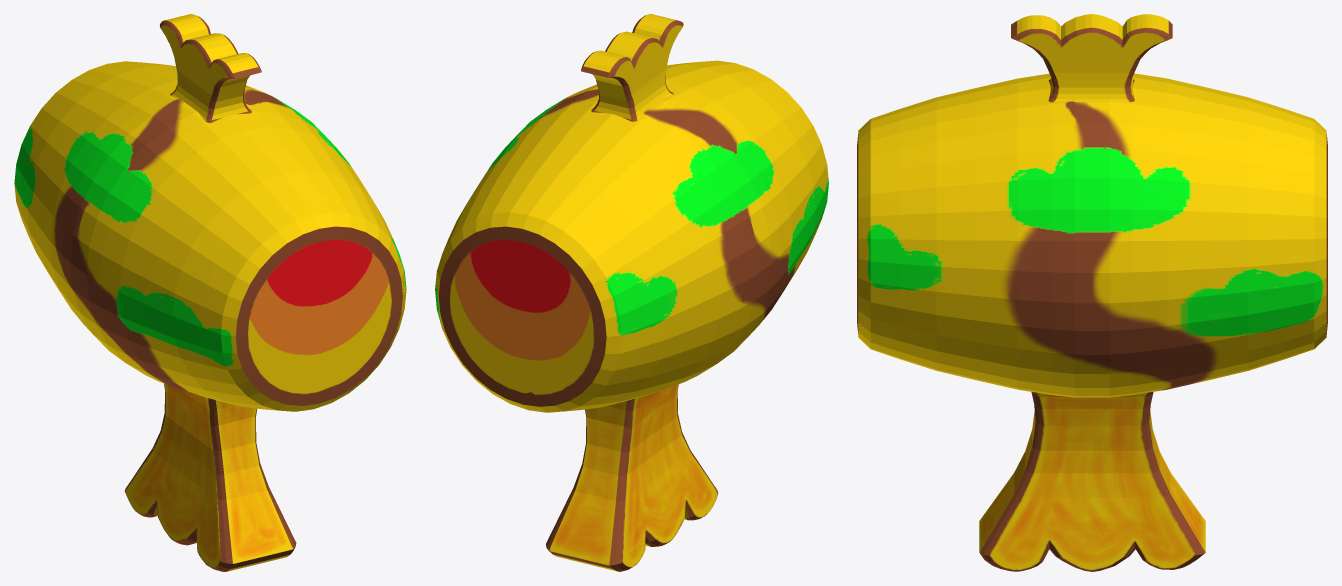
The model's file is MiracleMallet.fbx.
The picture shows the model from 3 angles, left to right: view 1: azimuth 30°, elevation 25°; view 2: azimuth 150°, elevation 25°; view 3: azimuth 270°, elevation 25°; orthographic projection. The views are drawn at different scales.
Visible parts, largest first — view 1: Body, Handle, Head; view 2: Body, Handle, Head; view 3: Body, Handle, Head.
Part boxes in pixels (box(x1,y1,x2,y2)): Body: box(14, 61, 406, 411); Handle: box(124, 383, 296, 571); Head: box(159, 14, 261, 122); Body: box(435, 60, 828, 412); Handle: box(546, 384, 718, 571); Head: box(581, 14, 683, 121); Body: box(857, 73, 1327, 397); Handle: box(979, 392, 1205, 571); Head: box(1011, 14, 1172, 102).
Size of the model in its own units: 112 by 202 by 161.
3 materials, 3 textured.
